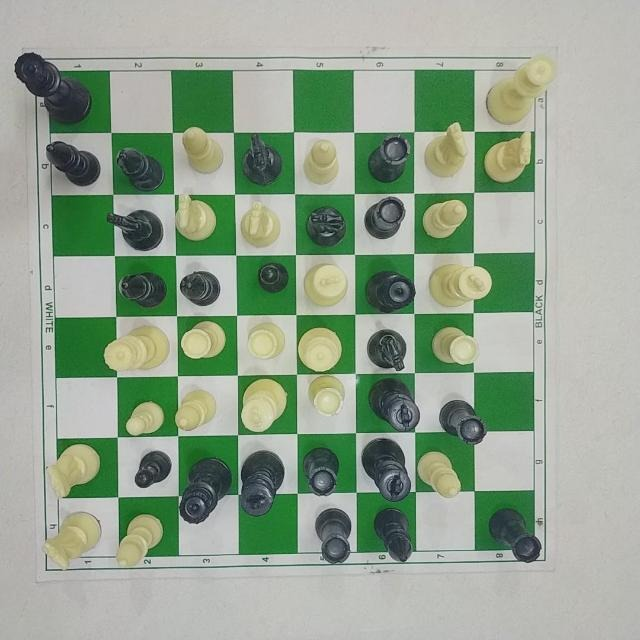black-bishop: (43, 139, 103, 189), (113, 144, 166, 193), (371, 506, 415, 564), (117, 270, 169, 310), (177, 268, 222, 308)
black-king: (358, 434, 414, 504), (237, 448, 287, 518), (365, 375, 422, 434)
black-knight: (104, 207, 166, 253), (238, 132, 284, 188), (364, 326, 410, 373), (304, 203, 348, 249)
black-pawn: (132, 448, 174, 490), (256, 260, 290, 294)
black-queen: (11, 49, 95, 127), (176, 454, 234, 526), (363, 268, 419, 316)
black-rook: (486, 506, 543, 564), (437, 399, 489, 447), (365, 132, 412, 184), (313, 506, 353, 566), (300, 445, 342, 498), (362, 194, 406, 242)
white-bishop: (113, 512, 165, 570), (415, 448, 463, 500), (180, 124, 226, 176), (173, 388, 219, 434), (419, 198, 469, 240), (300, 137, 341, 187)
white-king: (426, 261, 494, 309), (240, 376, 290, 434), (302, 261, 350, 309)
white-knight: (38, 509, 104, 573), (44, 441, 102, 499), (480, 129, 534, 185), (421, 121, 469, 179), (171, 191, 219, 242), (238, 199, 282, 249)
white-pawn: (123, 399, 167, 438)
white-queen: (482, 51, 559, 126), (101, 323, 172, 373), (295, 324, 345, 374)
white-rook: (429, 325, 481, 367), (179, 319, 227, 361), (306, 373, 347, 419), (244, 320, 286, 362)
